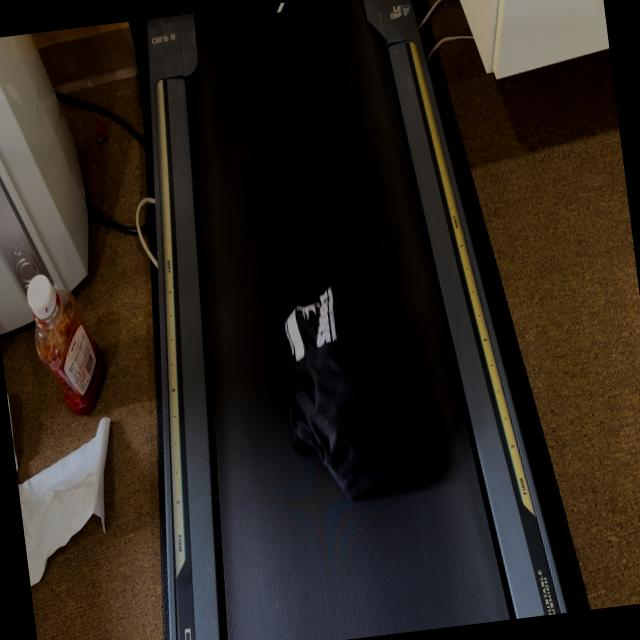Trash: (279, 280, 459, 490)
